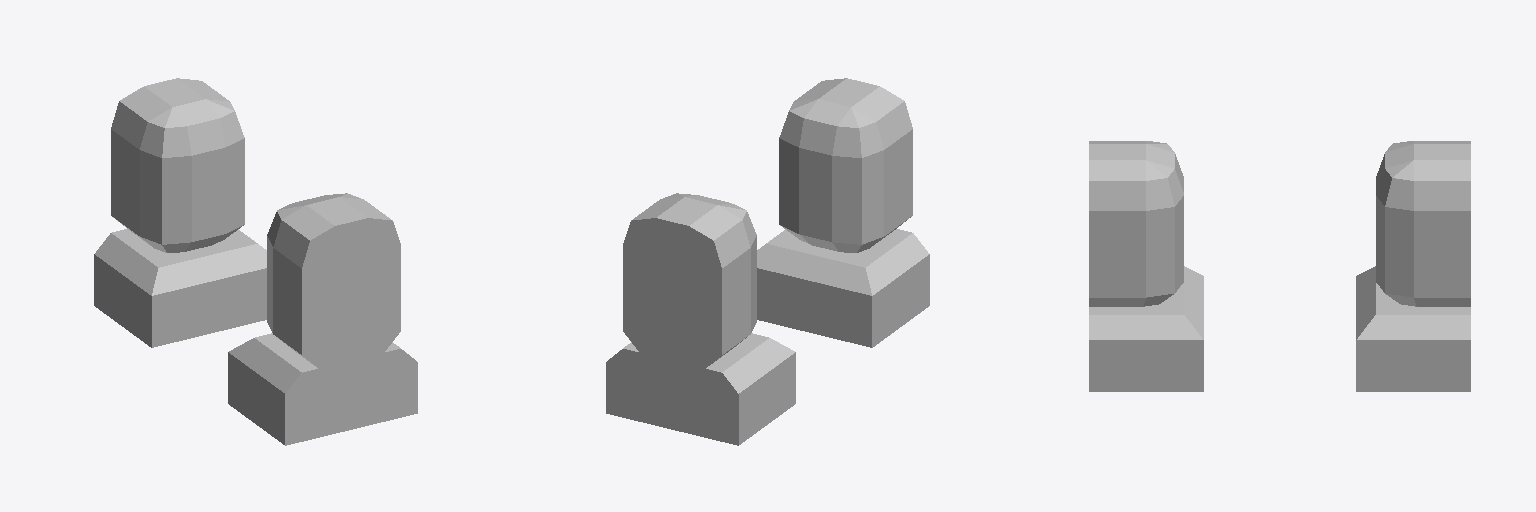
Rendered from hedge-large-gate.obj.
3 renders of one model, left to right at view 1: azimuth 30°, elevation 25°; view 2: azimuth 150°, elevation 25°; view 3: azimuth 270°, elevation 25°, orthographic.
Parts seen in each view (by area): view 1: hedge-large-gate; view 2: hedge-large-gate; view 3: hedge-large-gate.
Part boxes in pixels (x1,y1,x2,y2): hedge-large-gate: (94, 78, 417, 445); hedge-large-gate: (606, 78, 929, 445); hedge-large-gate: (1089, 141, 1470, 391).
Size of the model in its own units: 0.4 by 0.6 by 1.